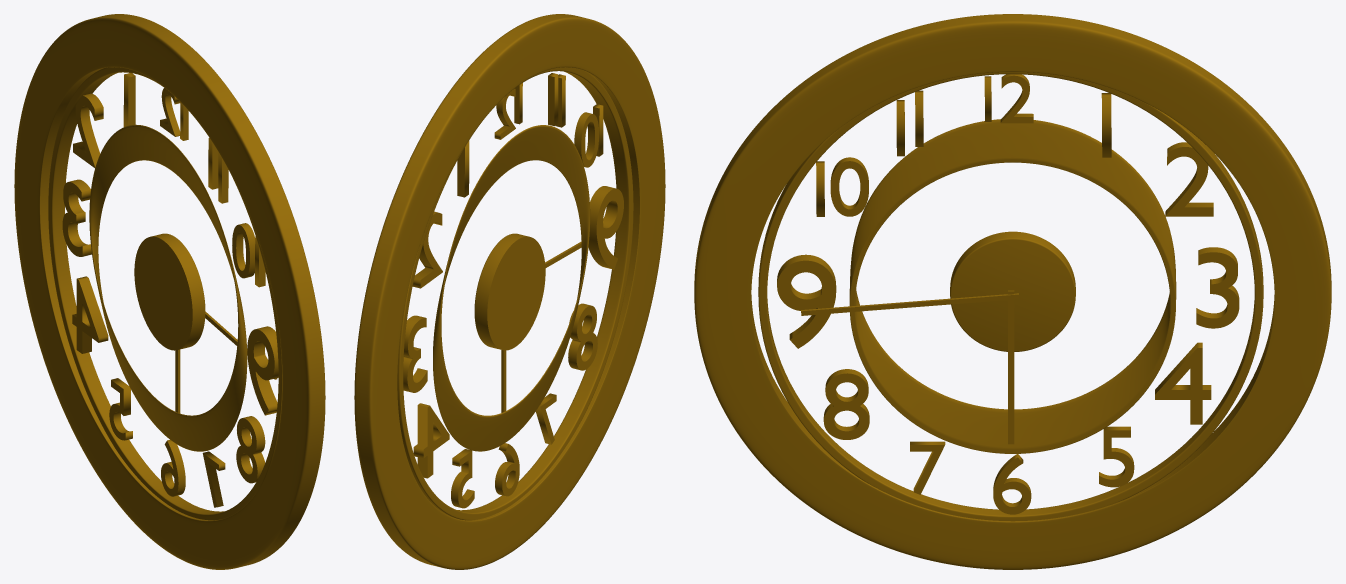
File: Reloj Uvs2.fbx
3 views of the same model, side by side, from view 1: azimuth 30°, elevation 25°; view 2: azimuth 150°, elevation 25°; view 3: azimuth 270°, elevation 25° (orthographic). The views are drawn at different scales.
Visible parts, largest first — view 1: Circle, Circle.002, Circle.001, Cylinder, Text.011, Text.004, Text.009, Text.003, Text.013, Text.012, Text.007, Text.005 (+5 smaller); view 2: Circle, Circle.002, Circle.001, Cylinder, Text.011, Text.004, Text.009, Text.003, Text.012, Text.005, Text.007, Text.013 (+5 smaller); view 3: Circle, Circle.002, Circle.001, Cylinder, Text.011, Text.009, Text.004, Text.003, Text.013, Cube.003, Text.007, Text.012 (+4 smaller).
Part boxes in pixels (<box>): Circle: <box>14,14,325,569</box>; Circle.002: <box>89,124,247,451</box>; Circle.001: <box>48,67,282,520</box>; Cylinder: <box>134,233,205,350</box>; Text.011: <box>247,326,278,415</box>; Text.004: <box>72,276,108,353</box>; Text.009: <box>236,416,265,483</box>; Text.003: <box>62,179,91,256</box>; Text.013: <box>73,93,103,167</box>; Text.012: <box>232,223,255,278</box>; Text.007: <box>161,440,185,496</box>; Text.005: <box>109,378,132,440</box>; Circle: <box>354,14,665,569</box>; Circle.002: <box>433,125,590,451</box>; Circle.001: <box>397,67,633,520</box>; Cylinder: <box>474,233,545,350</box>; Text.011: <box>588,186,623,269</box>; Text.004: <box>413,403,449,478</box>; Text.009: <box>568,303,597,370</box>; Text.003: <box>403,315,427,392</box>; Text.012: <box>574,112,598,167</box>; Text.005: <box>451,449,474,508</box>; Text.007: <box>495,443,519,496</box>; Text.013: <box>412,211,442,288</box>; Circle: <box>694,14,1331,569</box>; Circle.002: <box>849,119,1176,453</box>; Circle.001: <box>758,72,1263,521</box>; Cylinder: <box>950,231,1075,351</box>; Text.011: <box>777,254,836,348</box>; Text.009: <box>823,369,869,439</box>; Text.004: <box>1155,342,1211,424</box>; Text.003: <box>1196,247,1239,328</box>; Text.013: <box>1165,142,1213,216</box>; Cube.003: <box>801,293,1019,315</box>; Text.007: <box>993,454,1031,514</box>; Text.012: <box>830,157,868,216</box>.
Size of the model in its own units: 1.73 by 45.08 by 47.47.
